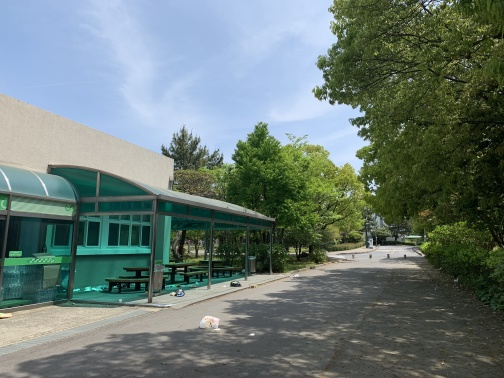Ara Hall: (1, 151, 289, 316)
